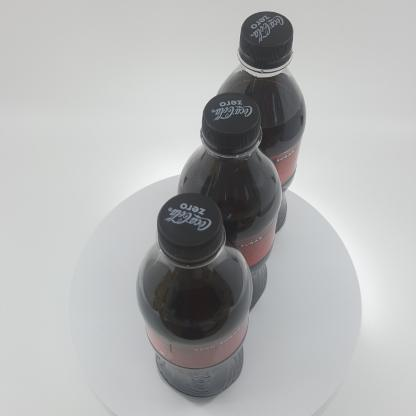------500ML: (137, 192, 254, 405)
